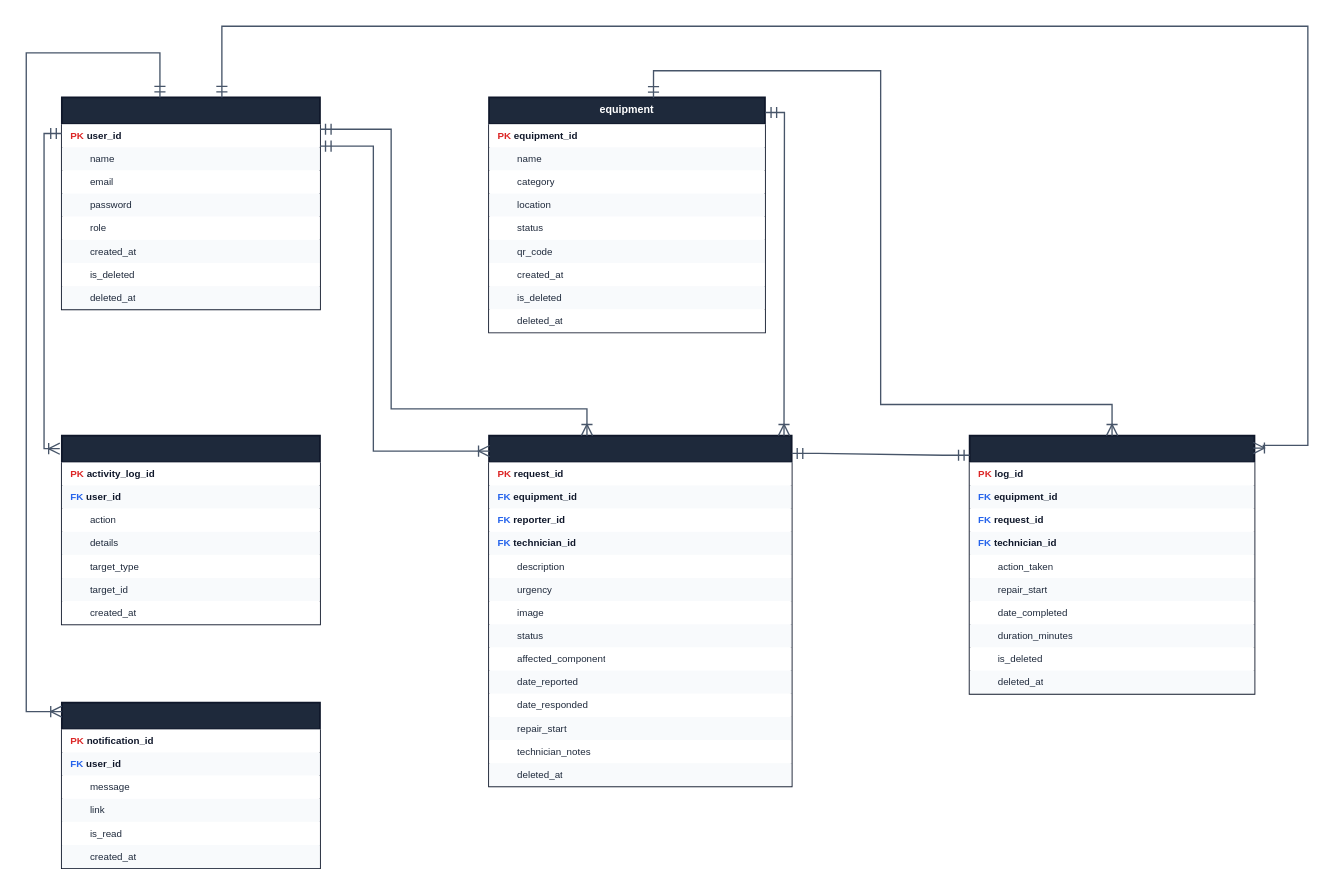
The diagram is 1336 pixels wide and 885 high, and some of its shapes have lost their labels. Here are the shapes that lost their labels. From the top down, the box of each, then its label:
(61, 96, 320, 310): users
(61, 434, 320, 625): activity_logs
(968, 434, 1255, 694): maintenance_logs
(488, 434, 792, 787): maintenance_requests
(61, 701, 320, 869): notifications
